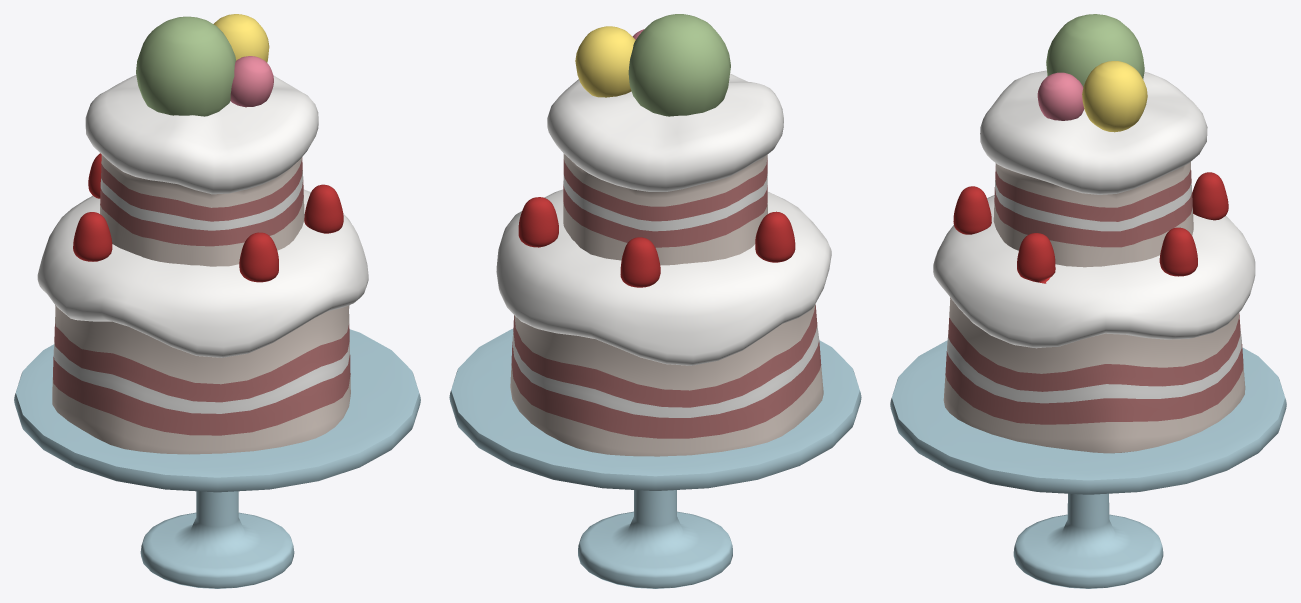
The model's file is Cake_1.glb.
3 views of the same model, side by side, from view 1: azimuth 30°, elevation 25°; view 2: azimuth 150°, elevation 25°; view 3: azimuth 270°, elevation 25° (orthographic). The views are drawn at different scales.
Visible parts, largest first — view 1: Cake_1; view 2: Cake_1; view 3: Cake_1.
Part boxes in pixels (bbox=[...]): Cake_1: bbox=[14, 14, 420, 588]; Cake_1: bbox=[449, 14, 861, 588]; Cake_1: bbox=[890, 14, 1286, 588].
Bounding box in the file's own units: 0.515 × 0.754 × 0.515.
2 materials, 2 textured.
